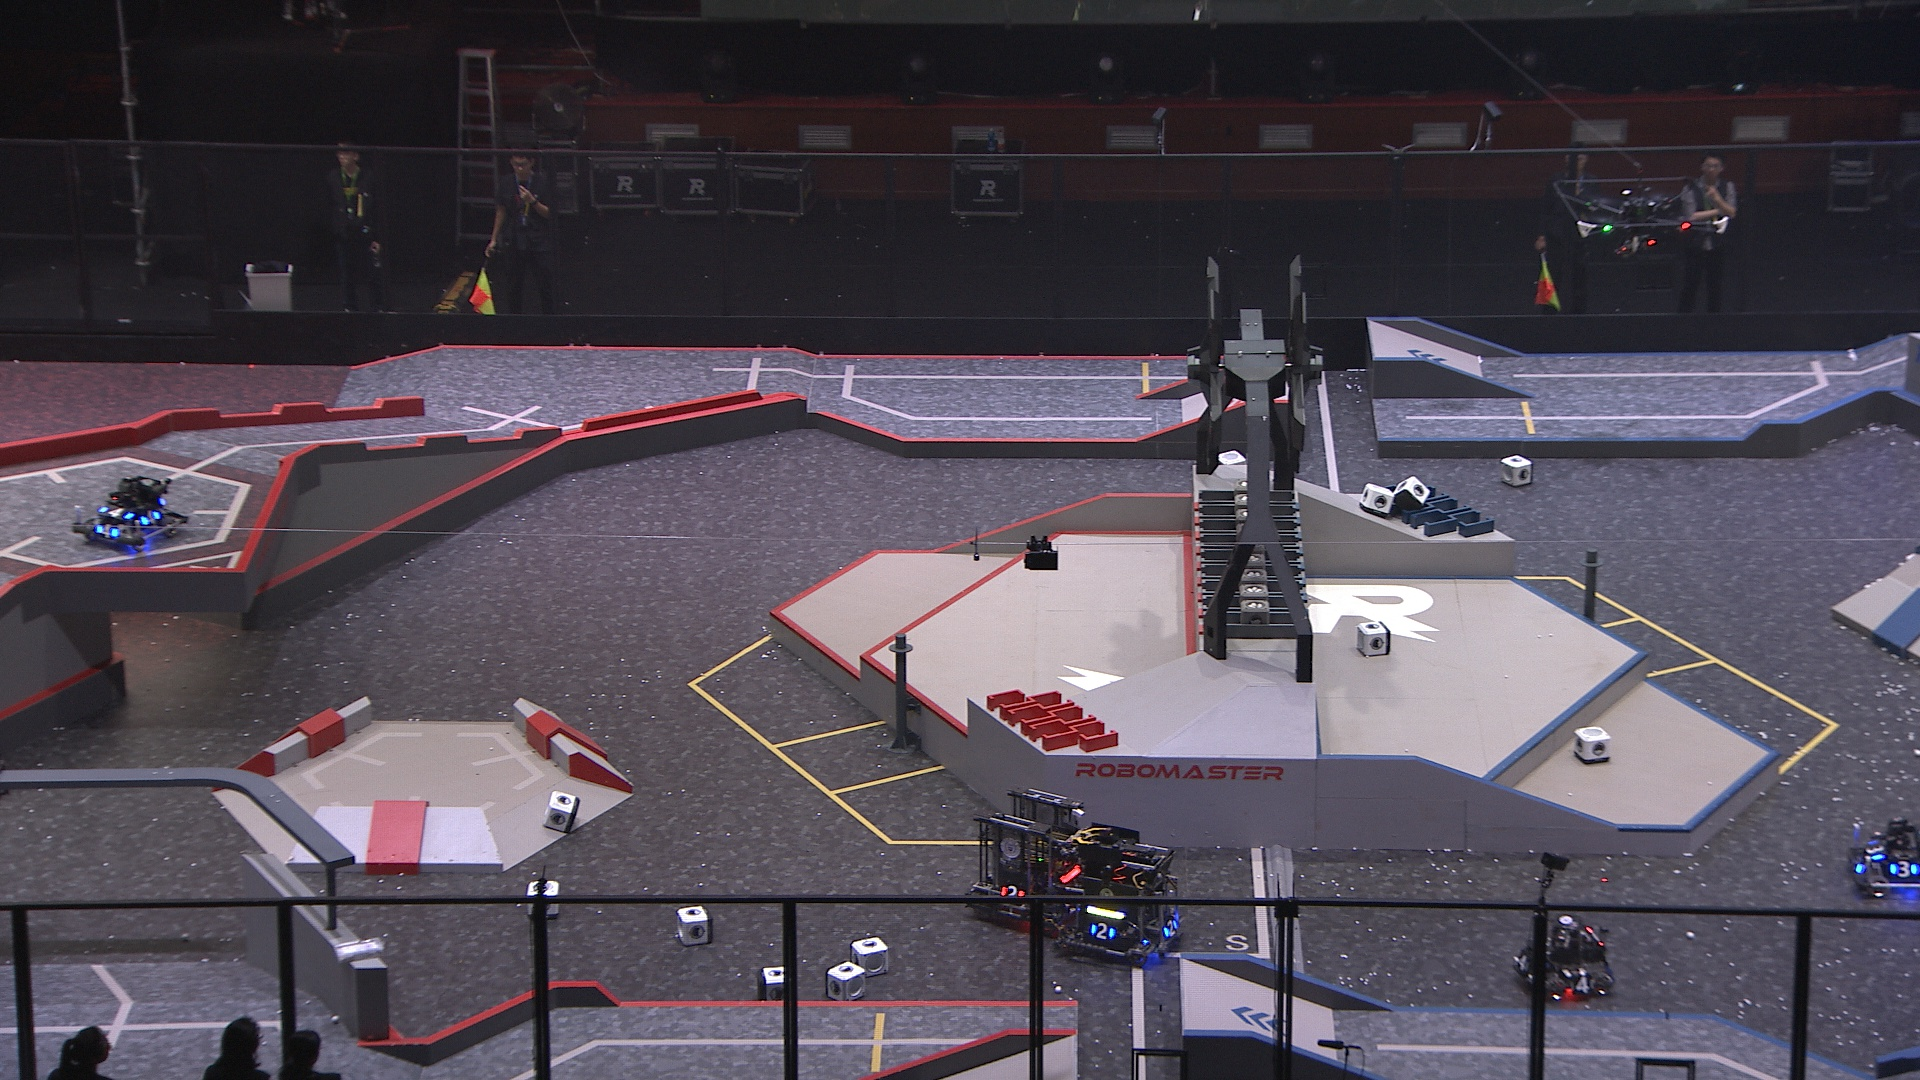armor: (98, 502, 135, 524), (1569, 973, 1598, 996), (1888, 858, 1917, 880), (1865, 840, 1890, 862), (1091, 920, 1117, 942), (94, 522, 120, 542), (997, 884, 1026, 901), (1854, 851, 1871, 880), (138, 508, 164, 526), (1162, 916, 1182, 938), (1513, 949, 1528, 975)
car: (1051, 822, 1185, 968), (963, 785, 1096, 930), (1510, 911, 1617, 1006), (73, 469, 195, 551), (1845, 815, 1920, 901)
